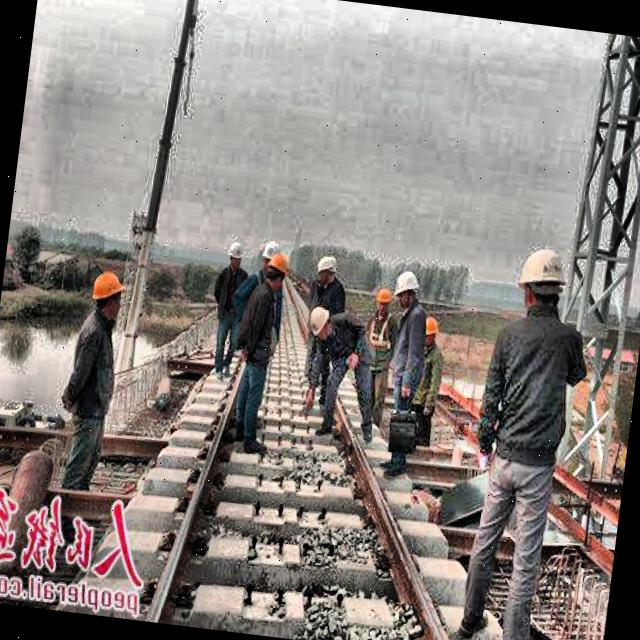helmet: (512, 240, 572, 322), (85, 264, 128, 327), (390, 263, 426, 314), (301, 304, 337, 342), (258, 252, 290, 289), (413, 310, 442, 350), (309, 250, 340, 286), (225, 238, 248, 272), (374, 284, 396, 316), (258, 238, 280, 270)
